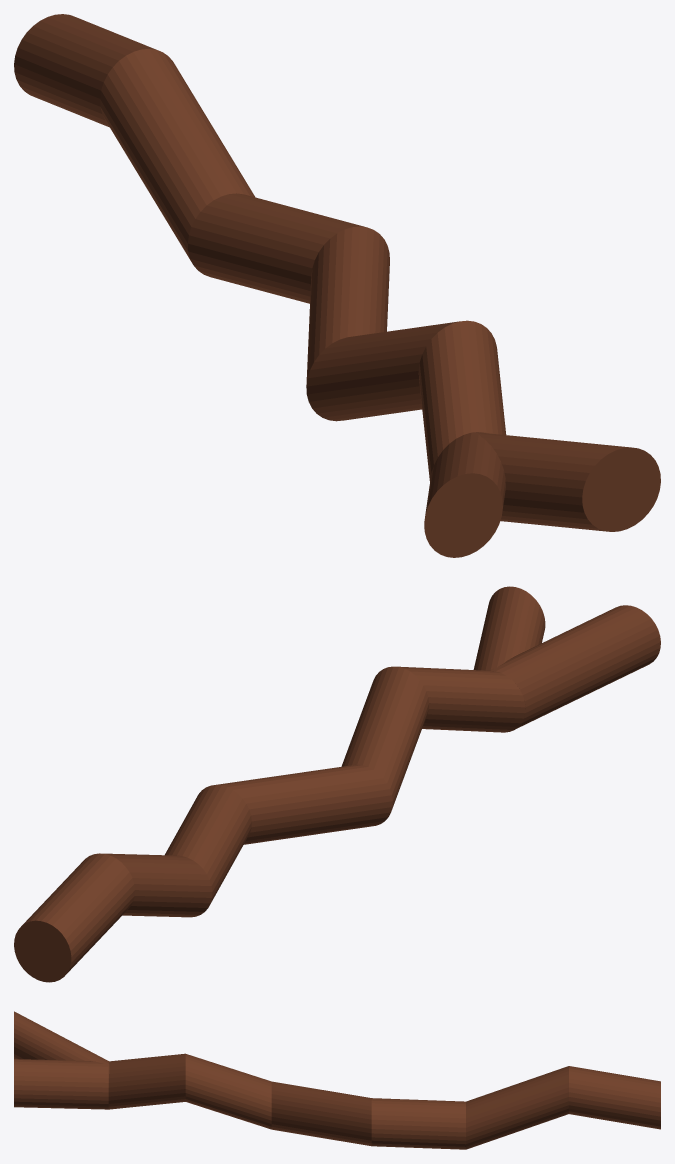
File: branch.fbx
3 views of the same model, one above another, from view 1: azimuth 30°, elevation 25°; view 2: azimuth 150°, elevation 25°; view 3: azimuth 270°, elevation 25° (orthographic). The views are drawn at different scales.
Parts seen in each view (by area): view 1: Cylinder; view 2: Cylinder; view 3: Cylinder.
Boxes of the visible parts, left/top/right/bottom form: Cylinder: left=14, top=14, right=660, bottom=557; Cylinder: left=14, top=586, right=660, bottom=982; Cylinder: left=14, top=1011, right=660, bottom=1149.
Bounding box in the file's own units: 57.56 × 29.12 × 201.
